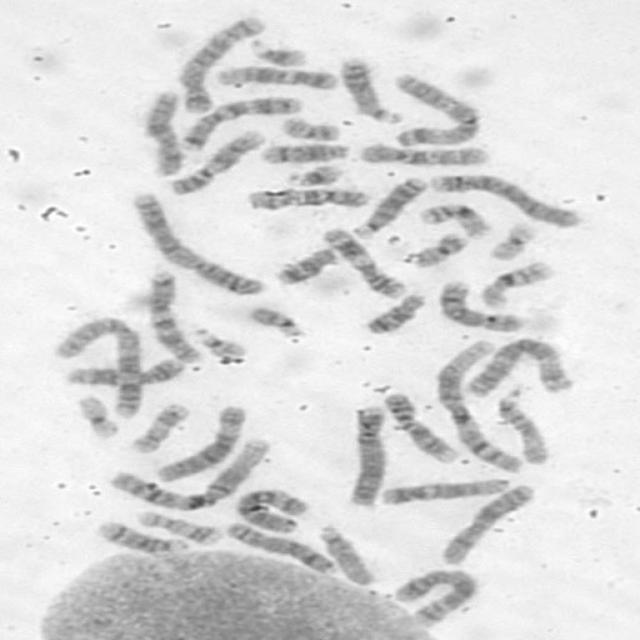A1: (428, 335, 528, 474), (105, 433, 274, 512)
A2: (124, 186, 268, 296), (48, 312, 148, 420)
A3: (386, 68, 484, 148), (458, 334, 578, 399)
B4: (425, 170, 585, 229), (339, 400, 390, 508)
B5: (172, 11, 268, 115), (388, 564, 482, 630)
C10: (240, 182, 372, 212), (355, 140, 494, 167)
C11: (316, 223, 410, 300), (60, 353, 189, 388)
C12: (373, 473, 512, 507), (209, 61, 341, 91)
C6: (150, 400, 251, 482), (229, 484, 311, 534)
C7: (176, 91, 308, 152), (140, 266, 205, 364)
C8: (221, 518, 341, 576), (435, 274, 527, 334)
C9: (164, 126, 268, 196), (378, 388, 462, 463)
D13: (349, 171, 430, 239), (337, 53, 408, 125)
D14: (90, 516, 190, 554), (255, 138, 354, 165)
D15: (492, 384, 554, 467), (312, 520, 380, 586)
E16: (475, 257, 557, 310), (414, 198, 494, 240)
E17: (125, 398, 193, 454), (131, 506, 225, 546)
E18: (359, 288, 430, 335), (270, 242, 342, 287)
F19: (71, 390, 124, 440), (484, 218, 540, 261)
F20: (406, 228, 472, 268), (275, 112, 343, 142)
G21: (244, 34, 312, 68), (280, 160, 346, 187)
G22: (244, 302, 308, 338), (188, 323, 250, 359)
X: (435, 479, 540, 566), (136, 86, 188, 176)
